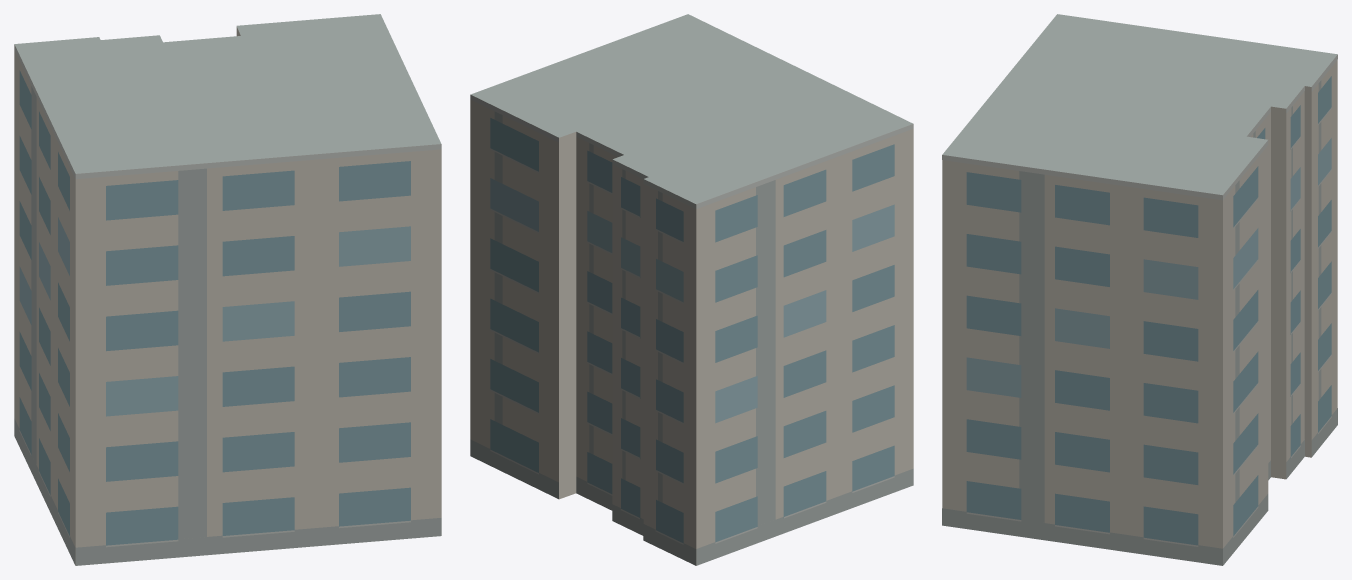
Rendered from survey-upis-32929275.glb.
The picture shows the model from 3 angles, left to right: view 1: azimuth 30°, elevation 25°; view 2: azimuth 150°, elevation 25°; view 3: azimuth 270°, elevation 25°; orthographic projection. The views are drawn at different scales.
Parts seen in each view (by area): view 1: survey-upis-32929275.tmp; view 2: survey-upis-32929275.tmp; view 3: survey-upis-32929275.tmp.
Boxes of the visible parts, box(x1,y1,x2,y2) form: survey-upis-32929275.tmp: box(14, 14, 441, 565); survey-upis-32929275.tmp: box(470, 14, 913, 565); survey-upis-32929275.tmp: box(942, 14, 1337, 565).
Bounding box in the file's own units: 18.67 × 17.8 × 17.23.
